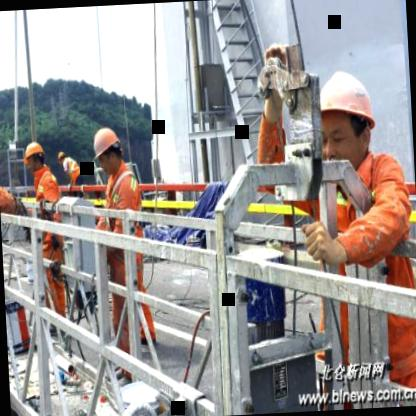helmet: (309, 65, 380, 183), (90, 123, 124, 175), (22, 140, 45, 178), (56, 146, 68, 166)
